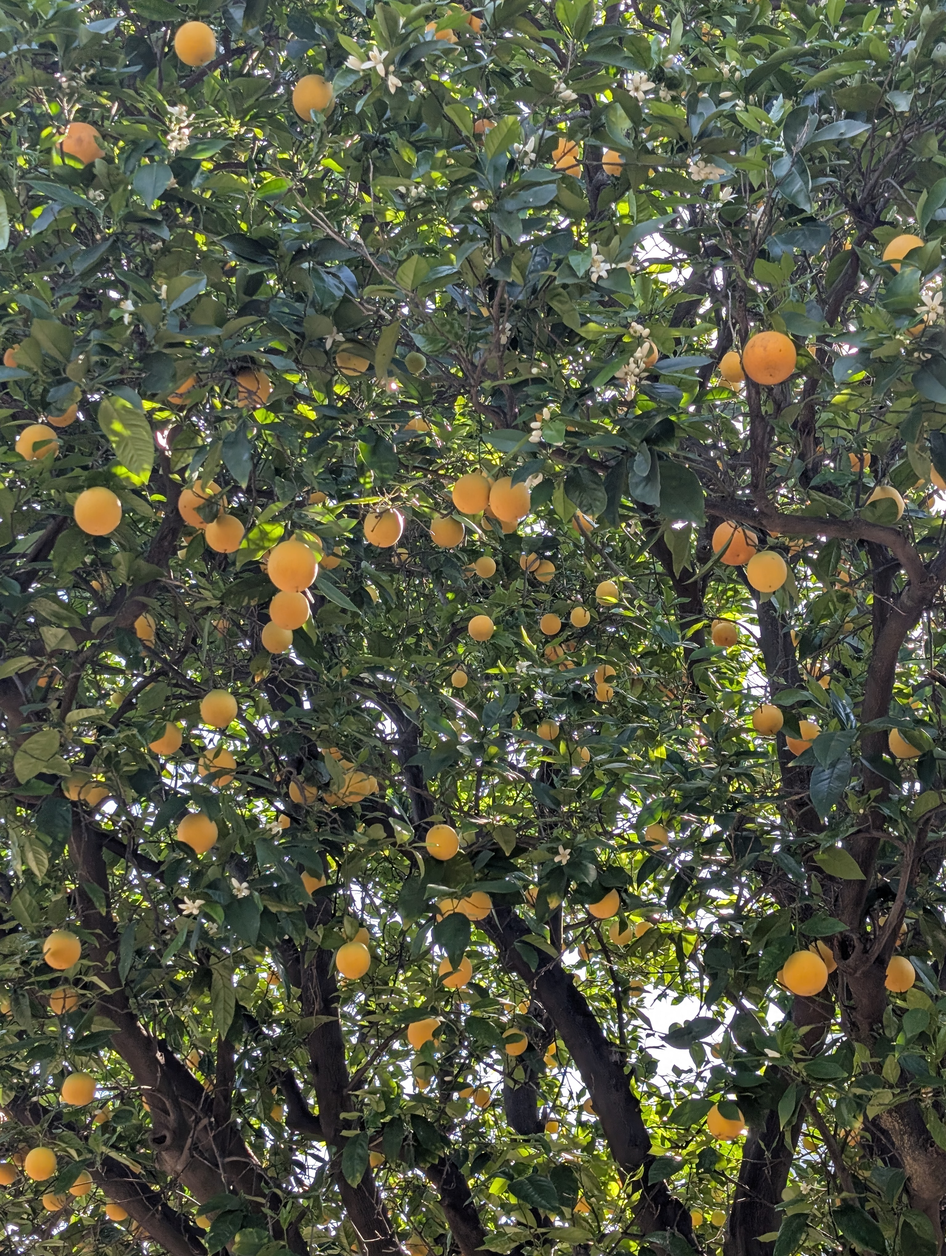orange: (742, 331, 796, 385), (268, 540, 317, 592), (74, 487, 122, 535), (782, 949, 828, 997), (712, 521, 758, 566), (177, 481, 220, 529), (174, 21, 216, 66), (292, 74, 333, 120), (746, 550, 788, 593), (489, 477, 529, 522), (61, 122, 103, 164), (176, 812, 217, 853), (452, 473, 491, 515), (269, 591, 310, 630), (882, 234, 924, 272), (205, 513, 244, 553), (198, 745, 236, 786), (16, 424, 59, 460), (364, 509, 404, 547), (43, 930, 81, 969), (235, 369, 272, 409), (200, 690, 237, 729), (707, 1105, 745, 1140), (336, 940, 370, 979), (425, 823, 459, 861), (867, 485, 904, 519), (60, 1072, 97, 1106), (786, 720, 820, 755), (22, 1147, 56, 1181), (885, 956, 916, 992), (439, 955, 472, 988), (430, 516, 464, 548), (149, 723, 182, 755), (407, 1017, 439, 1050), (261, 622, 293, 653), (588, 888, 620, 919), (752, 704, 783, 735), (61, 769, 91, 801), (888, 729, 920, 759), (459, 890, 491, 920), (49, 986, 79, 1016), (719, 350, 745, 383), (810, 940, 836, 973), (336, 350, 369, 375), (168, 376, 196, 405), (467, 614, 495, 642), (503, 1027, 528, 1057), (342, 773, 368, 801), (289, 780, 318, 805), (47, 404, 77, 428), (134, 614, 156, 646), (81, 782, 108, 808), (643, 823, 669, 850), (601, 147, 624, 177), (426, 21, 457, 43), (551, 138, 582, 159), (609, 920, 635, 945), (69, 1170, 93, 1197), (595, 580, 619, 606), (301, 871, 326, 894), (404, 1234, 429, 1256), (437, 897, 460, 920), (473, 556, 496, 578), (534, 560, 556, 583), (42, 1193, 68, 1212), (848, 453, 871, 474), (536, 720, 559, 741), (575, 510, 595, 534), (556, 157, 582, 175), (540, 613, 561, 635), (403, 416, 430, 433), (594, 664, 616, 684), (11, 1144, 30, 1167), (0, 1161, 18, 1185), (3, 344, 20, 368), (930, 467, 946, 492), (714, 626, 734, 646), (570, 606, 589, 627), (105, 1203, 128, 1220), (520, 552, 540, 571), (596, 682, 614, 703), (544, 644, 565, 662), (474, 118, 496, 135), (474, 1087, 491, 1109), (92, 1106, 111, 1125), (906, 319, 926, 337), (544, 1042, 558, 1067), (451, 669, 469, 688), (405, 355, 425, 372), (321, 554, 341, 570), (635, 920, 653, 937), (573, 1197, 591, 1214), (354, 927, 370, 945), (194, 1214, 212, 1230), (790, 539, 808, 555), (525, 889, 538, 911), (467, 13, 481, 33), (628, 978, 644, 995), (308, 490, 326, 505), (846, 1127, 861, 1145), (370, 1151, 385, 1168), (897, 923, 908, 946), (484, 501, 498, 519), (582, 1097, 596, 1115), (711, 1209, 725, 1227), (544, 1119, 560, 1134), (576, 746, 590, 763), (270, 1105, 284, 1122), (690, 1210, 703, 1228), (326, 793, 345, 805), (802, 1136, 817, 1151), (325, 747, 341, 761), (501, 521, 518, 534), (837, 567, 850, 584), (414, 1076, 429, 1090), (187, 1052, 201, 1067), (458, 1085, 474, 1098), (578, 943, 589, 961), (277, 813, 290, 828), (804, 664, 819, 677), (818, 674, 830, 690), (213, 619, 229, 631), (923, 494, 934, 511), (338, 761, 355, 772), (365, 776, 376, 792), (36, 674, 49, 686), (564, 640, 577, 652), (790, 629, 799, 646), (517, 1000, 529, 1012), (711, 623, 728, 631), (560, 661, 575, 670), (267, 972, 277, 985), (91, 579, 101, 591), (910, 698, 918, 707), (55, 421, 55, 421)
